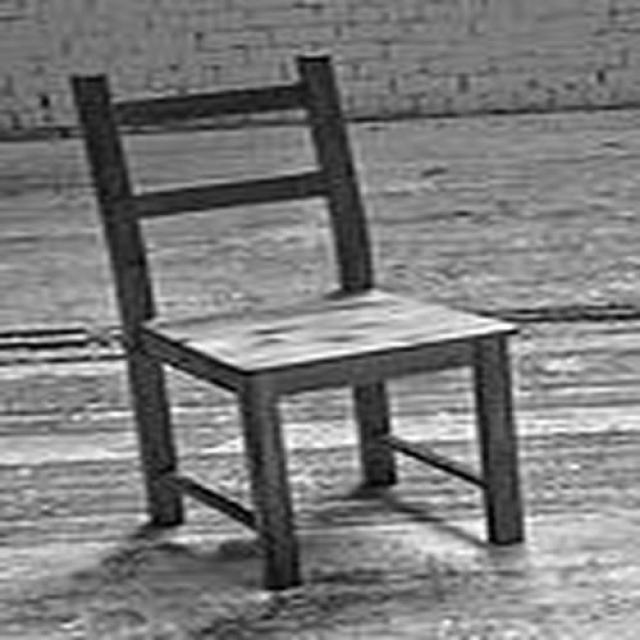chair: (69, 55, 526, 594)
